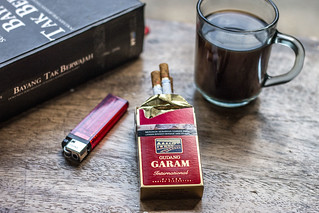garam filter: (134, 61, 209, 200)
